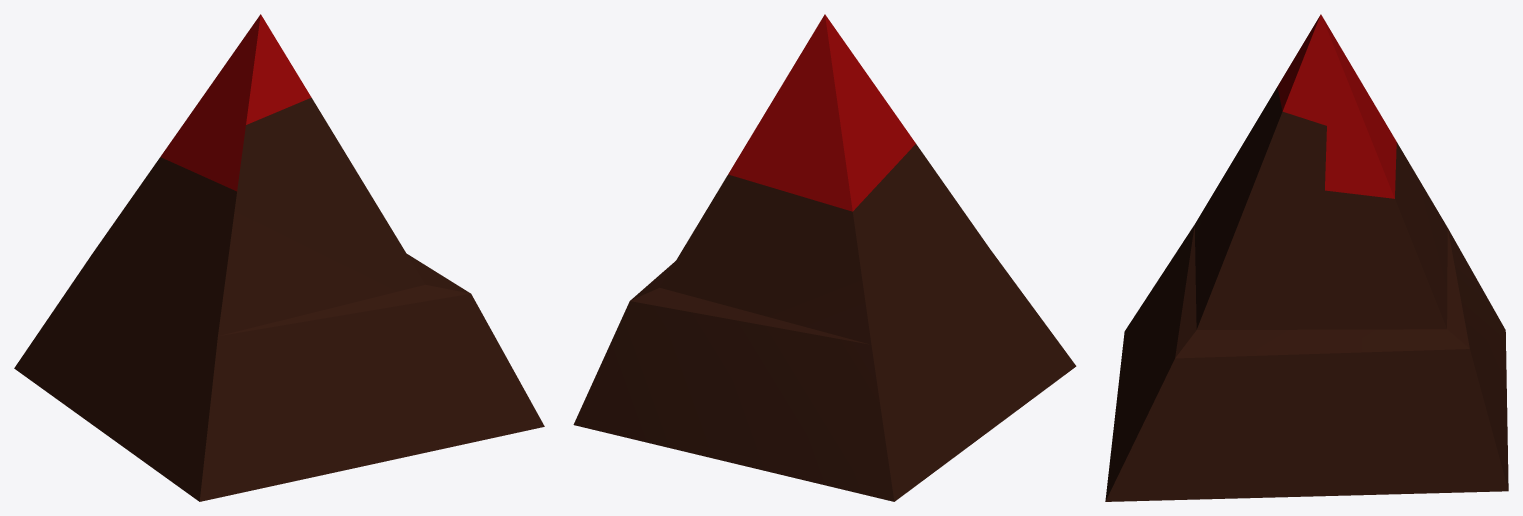
The model's file is PRO_Mountain_01.FBX.
3 renders of one model, left to right at view 1: azimuth 30°, elevation 25°; view 2: azimuth 150°, elevation 25°; view 3: azimuth 270°, elevation 25°, orthographic. The views are drawn at different scales.
Parts seen in each view (by area): view 1: PRO_Mountain_01; view 2: PRO_Mountain_01; view 3: PRO_Mountain_01.
Boxes of the visible parts, bbox=[...] form: PRO_Mountain_01: bbox=[14, 14, 544, 501]; PRO_Mountain_01: bbox=[573, 14, 1076, 501]; PRO_Mountain_01: bbox=[1105, 14, 1508, 501].
Size of the model in its own units: 15.34 by 16.5 by 15.22.
